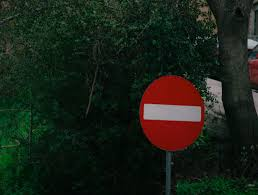No entry: (140, 75, 205, 153)
